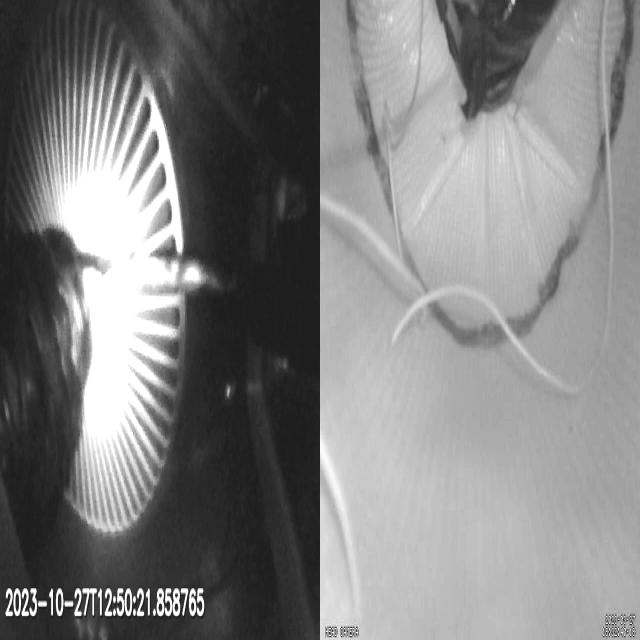red-circle: (345, 0, 637, 352)
